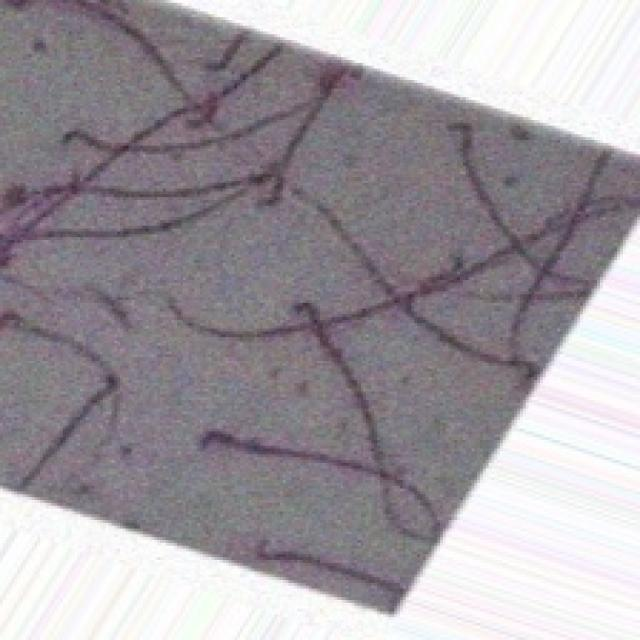Spiral_bacteria: (0, 0, 637, 609)
